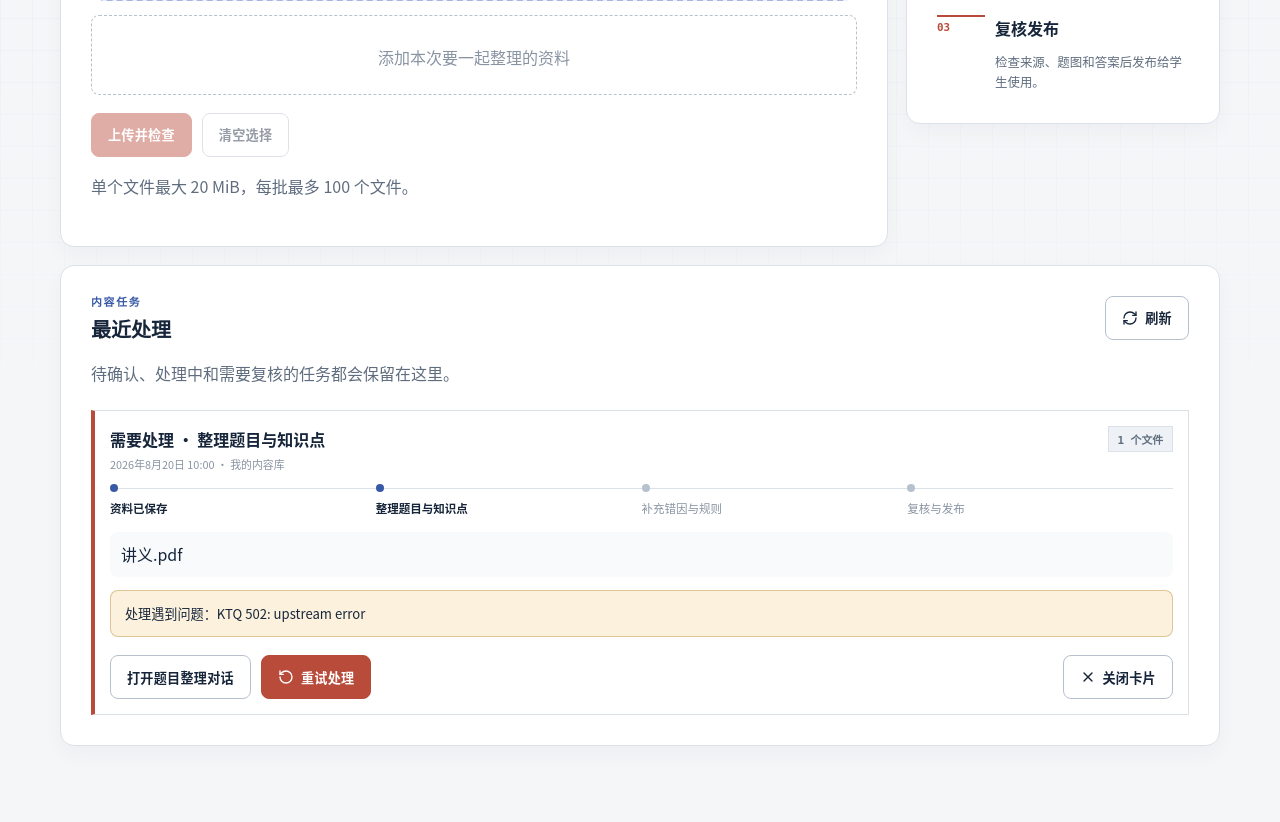
Test: content pipeline card actions › 点击关闭卡片会从最近任务中移除该卡片
(page scrolled)
Expected: the text "需要处理 · 整理题目与知识点" is shown, [110,426,325,452]
Click the button "关闭卡片".
click(1118, 677)  # box [1062,655,1173,699]
(page scrolled)
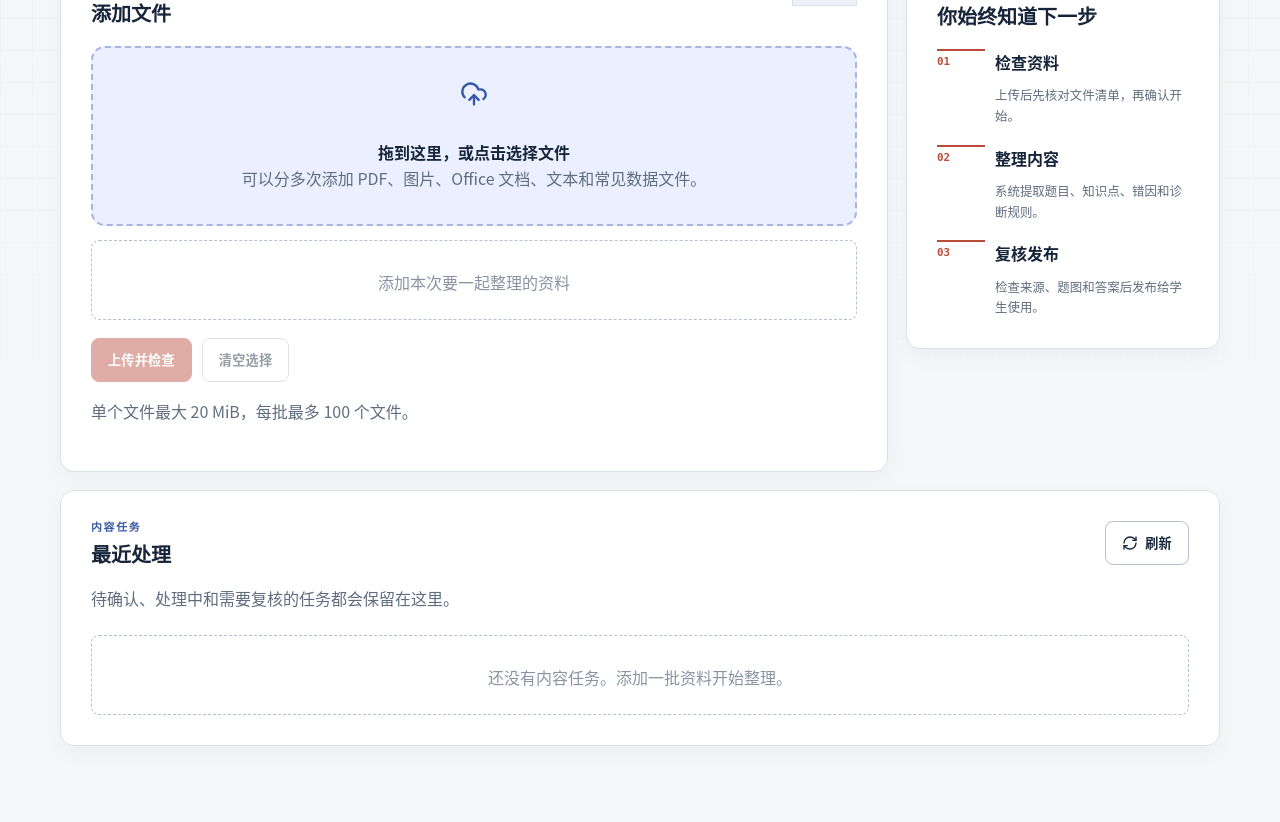
Expected: the text "需要处理" is gone
Expected: the text "还没有内容任务。添加一批资料开始整理。" is shown, [488,665,792,689]
